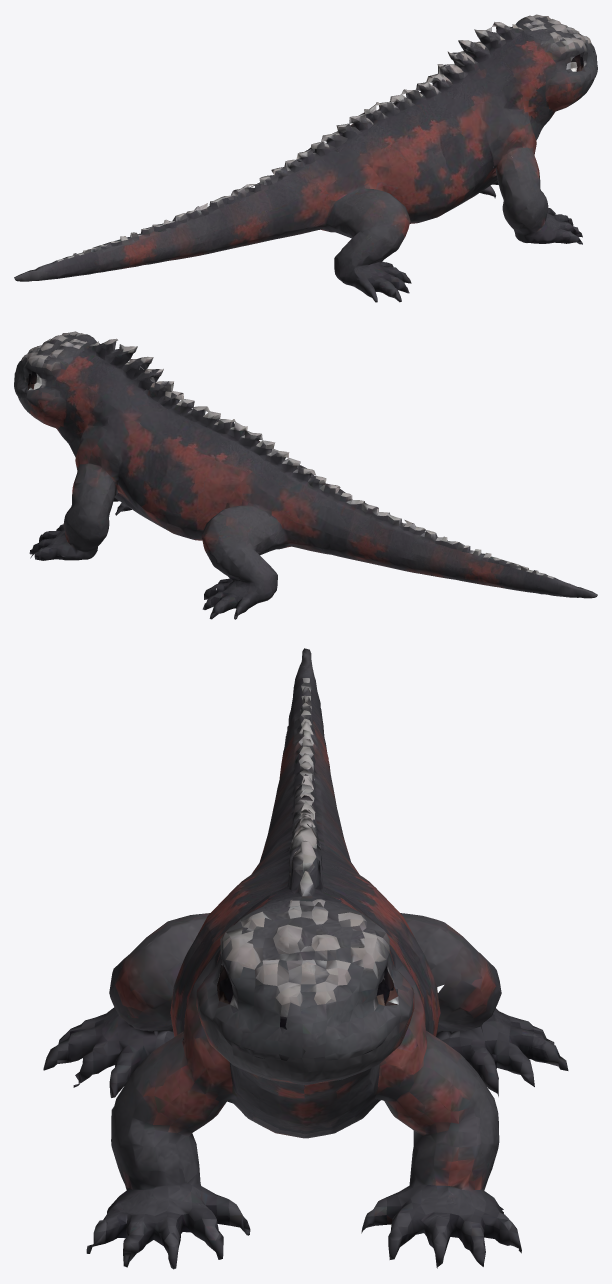
Rendered from iguana.glb.
3 renders of one model, top to bottom at view 1: azimuth 30°, elevation 25°; view 2: azimuth 150°, elevation 25°; view 3: azimuth 270°, elevation 25°, orthographic. The views are drawn at different scales.
Visible parts, largest first — view 1: iguana; view 2: iguana; view 3: iguana.
Part boxes in pixels (<box>): iguana: <box>14,14,597,302</box>; iguana: <box>14,331,597,619</box>; iguana: <box>43,648,568,1269</box>.
Bounding box in the file's own units: 1.6 × 0.5094 × 0.6269.
Materials: 1 (1 with a texture image).
